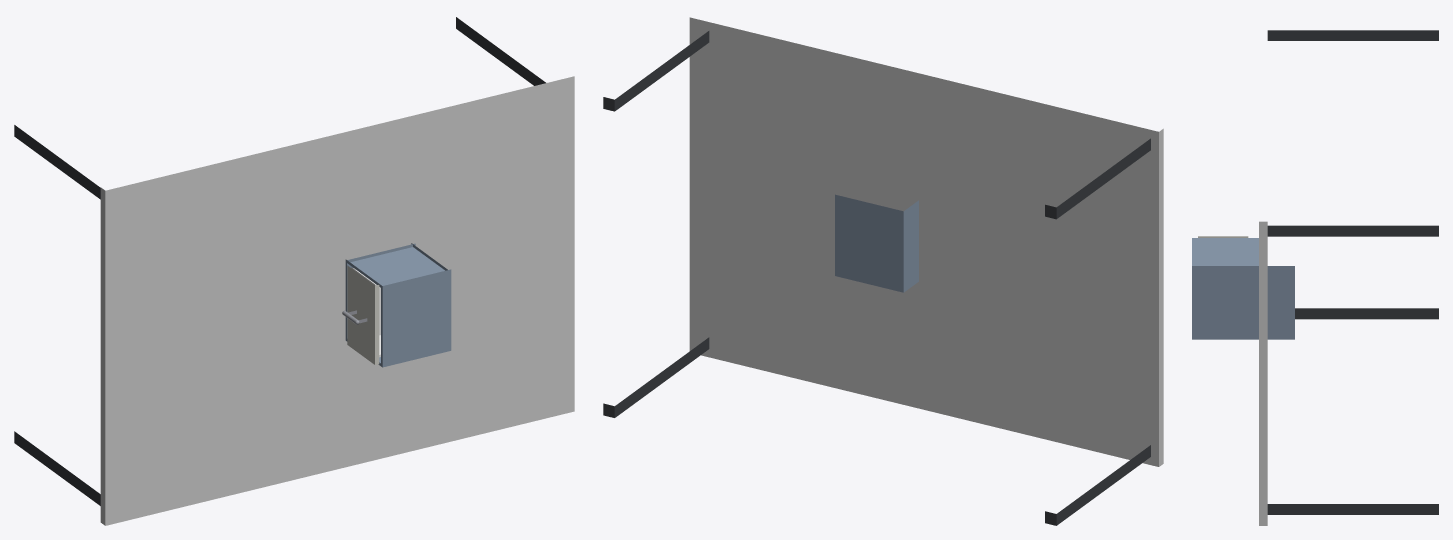
The picture shows the model from 3 angles, left to right: view 1: azimuth 30°, elevation 25°; view 2: azimuth 150°, elevation 25°; view 3: azimuth 270°, elevation 25°; orthographic projection. The views are drawn at different scales.
Visible parts, largest first — view 1: s0, s1, s2; view 2: s0, s1; view 3: s0, s1.
Boxes of the visible parts, x1,y1,x2,y2 form: s0: (14,17,574,525); s1: (345,243,451,367); s2: (342,265,380,364); s0: (603,17,1163,525); s1: (835,194,918,292); s0: (1259,30,1438,525); s1: (1192,238,1294,339).
Bounding box in the file's own units: 2.05 × 1.4 × 1.03.
